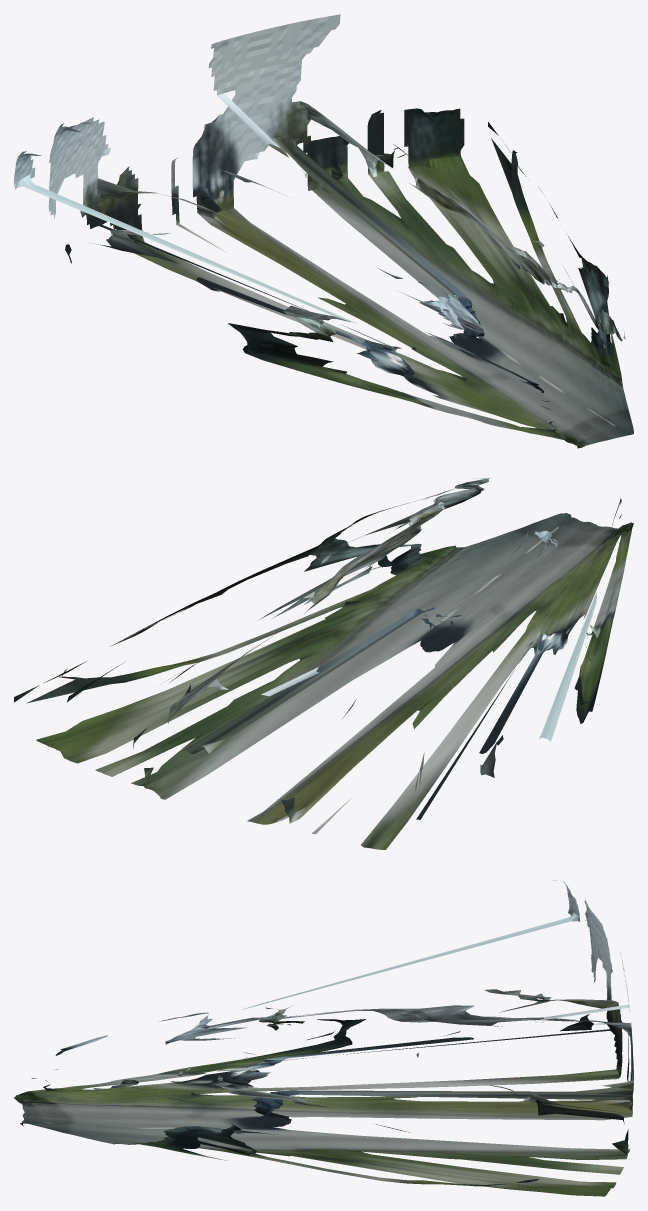
3 views of the same model, one above another, from view 1: azimuth 30°, elevation 25°; view 2: azimuth 150°, elevation 25°; view 3: azimuth 270°, elevation 25° (orthographic). The views are drawn at different scales.
Parts seen in each view (by area): view 1: defaultobject; view 2: defaultobject; view 3: defaultobject.
Boxes of the visible parts, bbox=[...] form: defaultobject: bbox=[14, 14, 633, 448]; defaultobject: bbox=[14, 478, 633, 849]; defaultobject: bbox=[14, 880, 633, 1196].
Size of the model in its own units: 36.24 by 12.85 by 45.17.
Materials: 1 (1 with a texture image).
